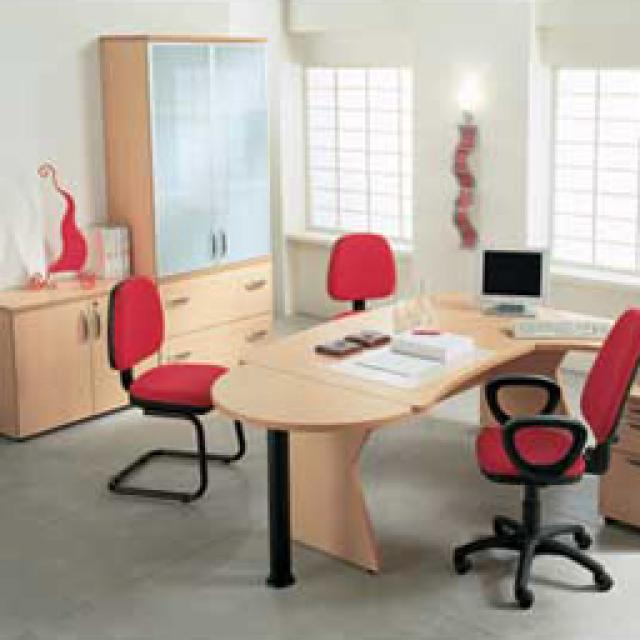2001: (548, 68, 638, 272), (302, 65, 408, 235)
books crop: (80, 220, 138, 278)
box contants: (388, 320, 475, 362)
boxes: (310, 325, 390, 355)
cabinet door: (100, 30, 270, 360), (0, 270, 132, 435)
chair: (325, 230, 390, 308)
chair -occluded-: (450, 308, 638, 602), (105, 275, 240, 498)
desk calendar: (205, 290, 612, 585)
desk occluded: (322, 325, 498, 388)
file organizer: (595, 385, 635, 522)
keyboard crop: (510, 315, 610, 335)
lamp crop: (445, 90, 478, 252)
monitor crop: (478, 245, 542, 315)
paper cup with straws: (352, 345, 435, 375)
pen holder: (408, 325, 438, 335)
statue: (28, 158, 92, 282)
